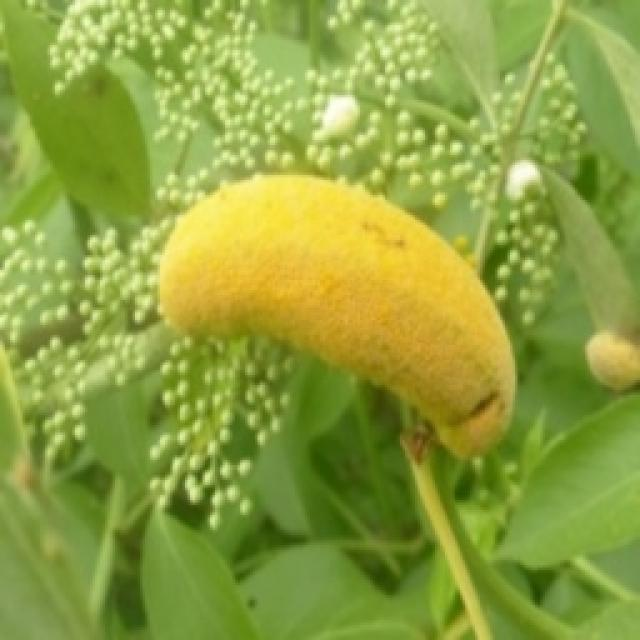Elderberry_rust: (152, 168, 518, 462)
